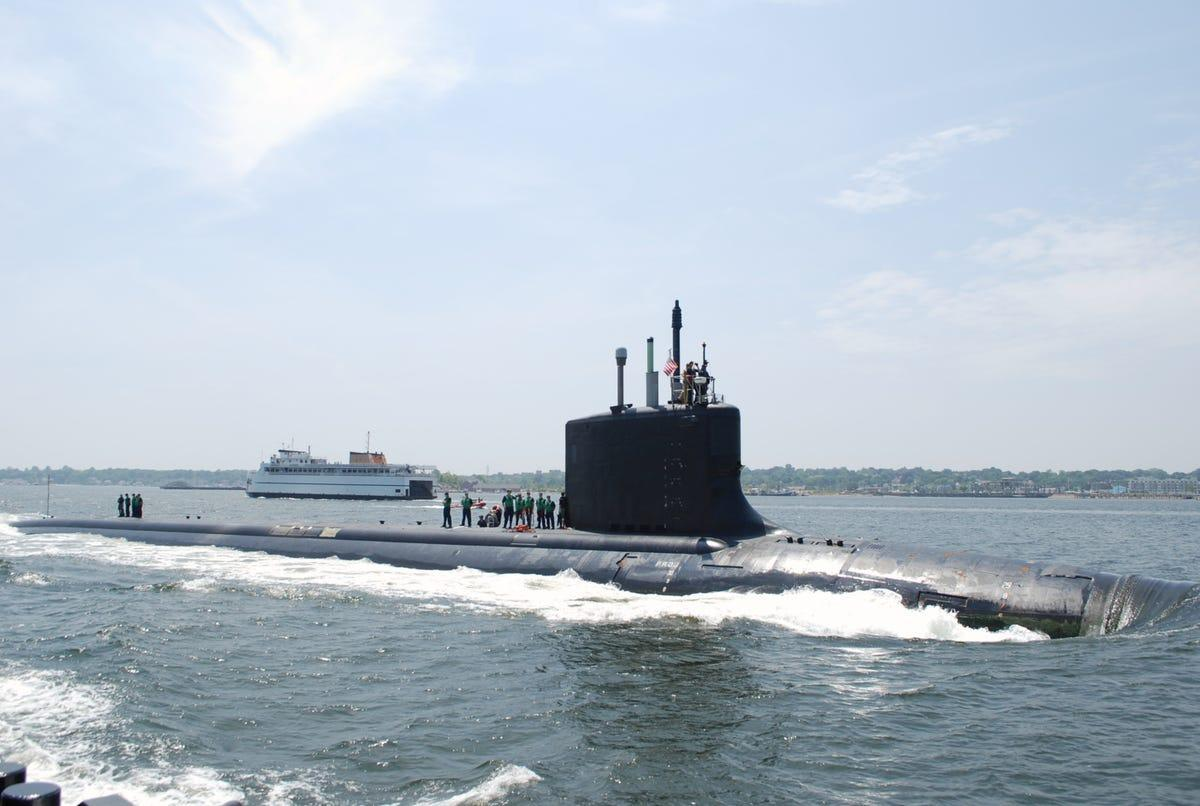Submarine: (422, 284, 1200, 798)
